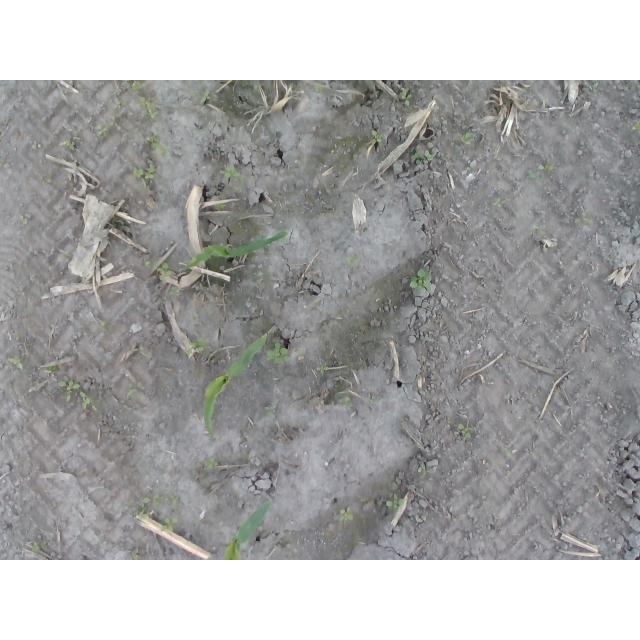Maize: (202, 332, 270, 437), (186, 232, 290, 273), (223, 500, 274, 560)
Weeds: (132, 496, 181, 534), (94, 88, 126, 141), (59, 381, 93, 413), (130, 80, 156, 116), (11, 361, 62, 378), (146, 261, 171, 281), (411, 270, 433, 290), (268, 343, 289, 363), (132, 169, 155, 187), (529, 165, 552, 179), (399, 85, 413, 107), (188, 337, 205, 355), (146, 138, 166, 153), (411, 152, 437, 163), (386, 497, 405, 512), (459, 421, 473, 440), (222, 167, 240, 181), (59, 141, 81, 152), (576, 215, 593, 228), (461, 132, 475, 145), (341, 509, 356, 521), (373, 133, 385, 147), (206, 459, 218, 473), (265, 406, 276, 420), (339, 397, 353, 408), (126, 549, 139, 560), (346, 256, 360, 266), (170, 285, 179, 299), (27, 544, 38, 554), (493, 200, 504, 209), (319, 364, 328, 374), (128, 388, 137, 397), (100, 323, 108, 330), (139, 346, 146, 352)
